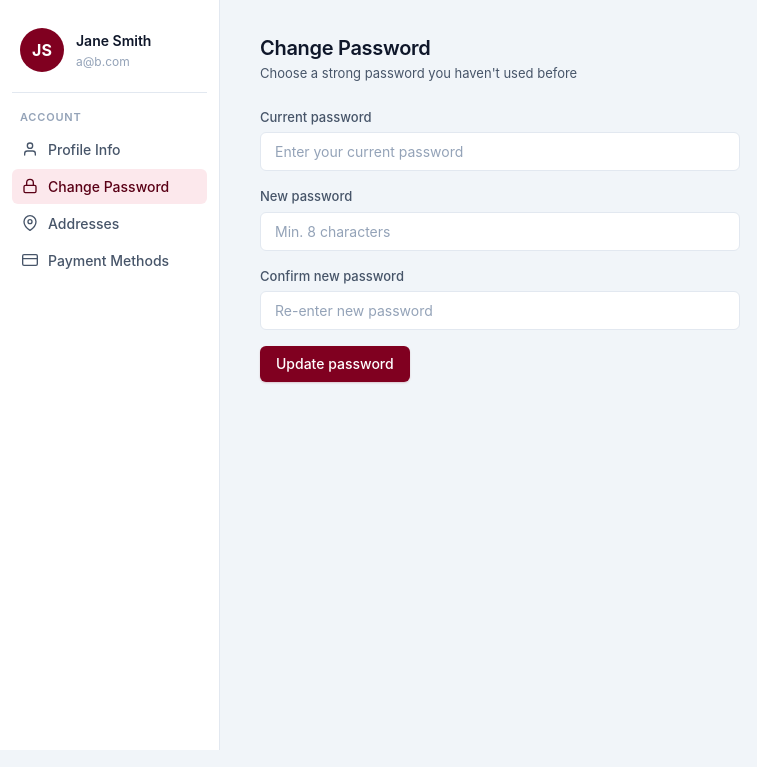
it: Profile page › ChangePasswordTab › shows success banner after password change
Type "oldpass1" into the password field labelled "Current password" at (500, 152), box [260,132,740,171]
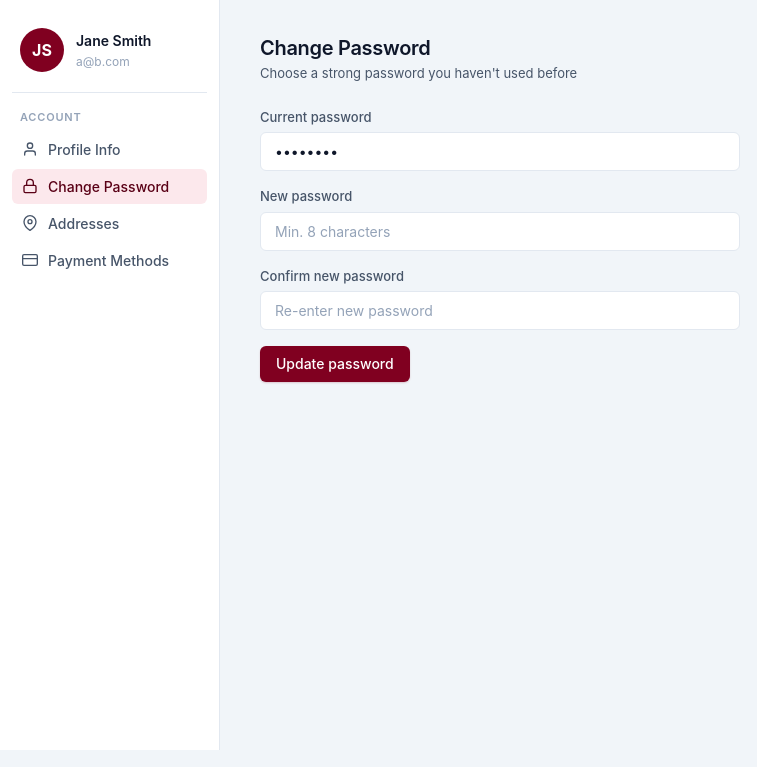
Type "newpass123" into the password field labelled "New password" at (500, 231), box [260,212,740,250]
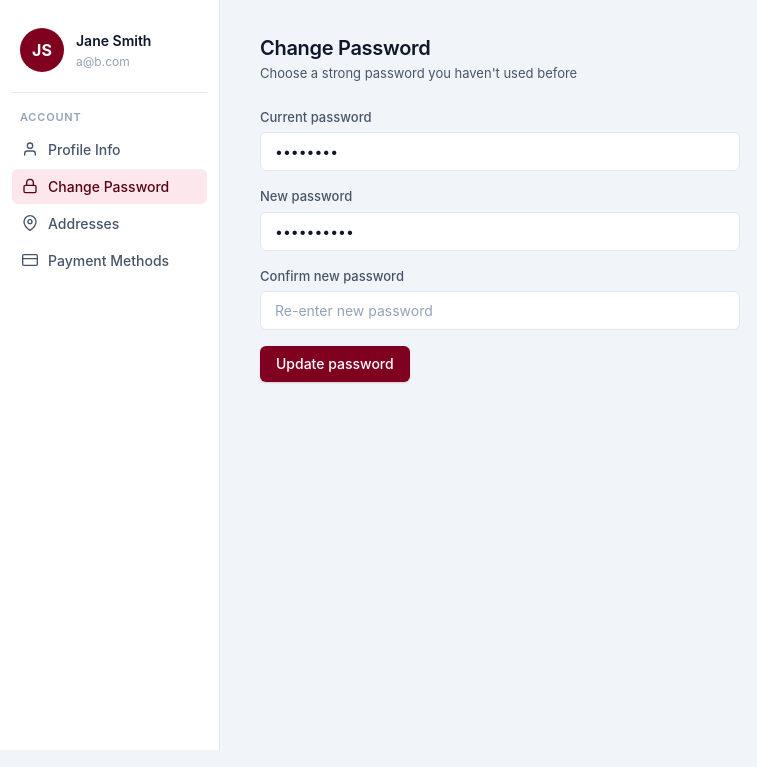
Type "newpass123" into the password field labelled "Confirm new password" at (500, 310), box [260,291,740,330]
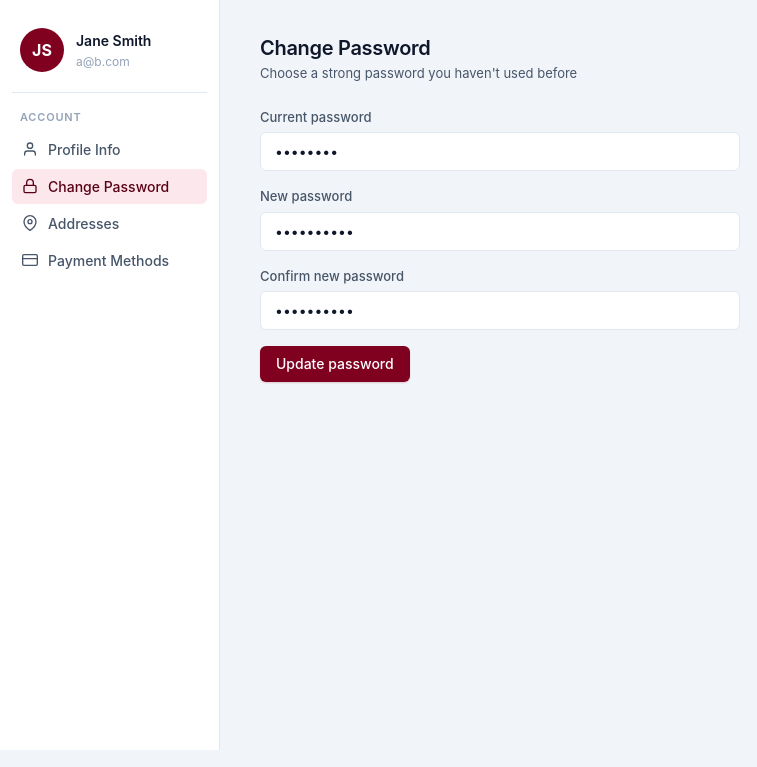
Click the button "Update password" at (335, 364), box [260,346,410,382]
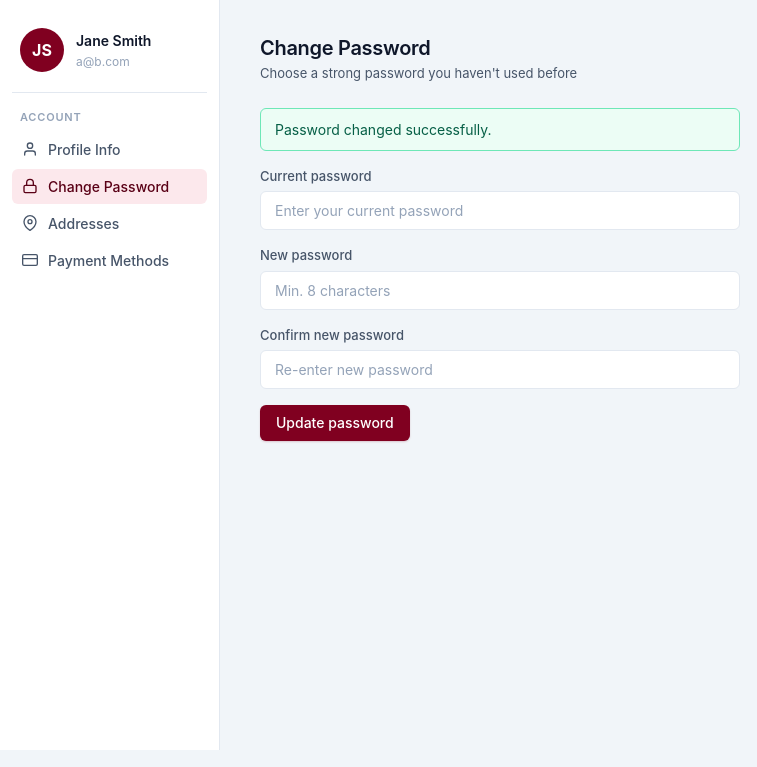
Expected: the text "Password changed successfully." is shown, [260,108,740,150]
